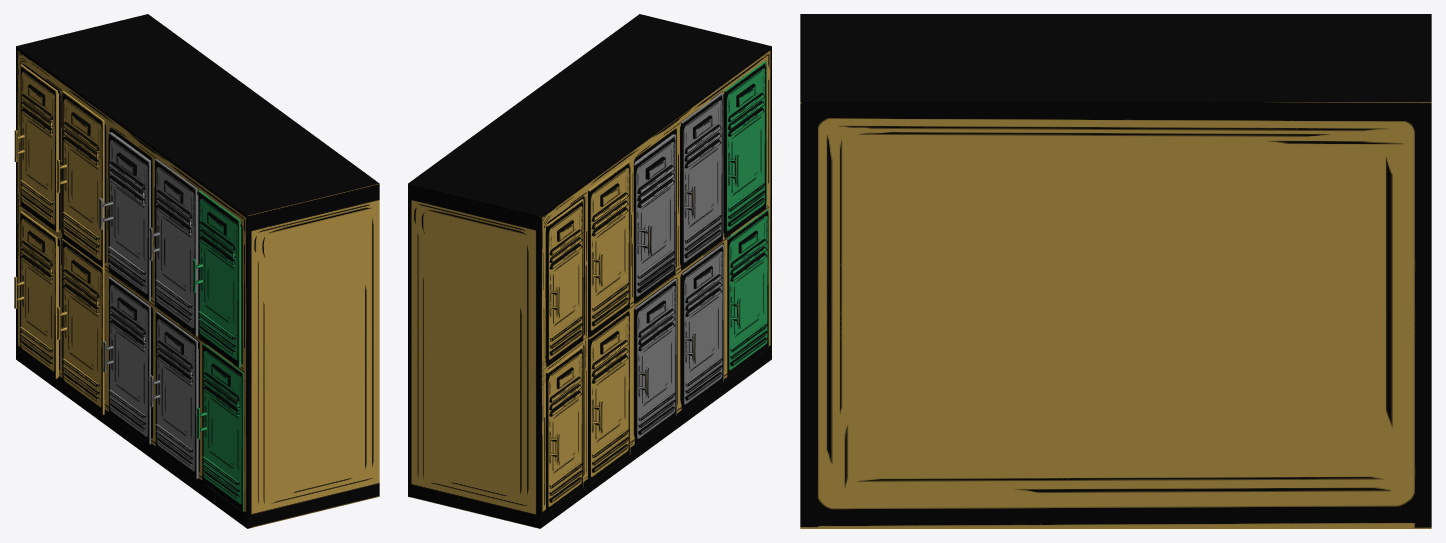
Rendered from casilleros2.fbx.
The picture shows the model from 3 angles, left to right: view 1: azimuth 30°, elevation 25°; view 2: azimuth 150°, elevation 25°; view 3: azimuth 270°, elevation 25°; orthographic projection. The views are drawn at different scales.
Visible parts, largest first — view 1: polySurface1, polySurface190, polySurface204, polySurface191; view 2: polySurface1, polySurface190, polySurface204, polySurface191; view 3: polySurface1.
Boxes of the visible parts, box(x1,y1,x2,y2) form: polySurface1: box(16, 14, 379, 528); polySurface190: box(107, 132, 198, 478); polySurface204: box(14, 64, 104, 414); polySurface191: box(193, 190, 243, 511); polySurface1: box(408, 14, 771, 528); polySurface190: box(634, 92, 723, 445); polySurface204: box(546, 160, 630, 513); polySurface191: box(724, 61, 768, 376); polySurface1: box(800, 14, 1431, 528).
Bounding box in the file's own units: 0.9341 × 1.91 × 2.56.
